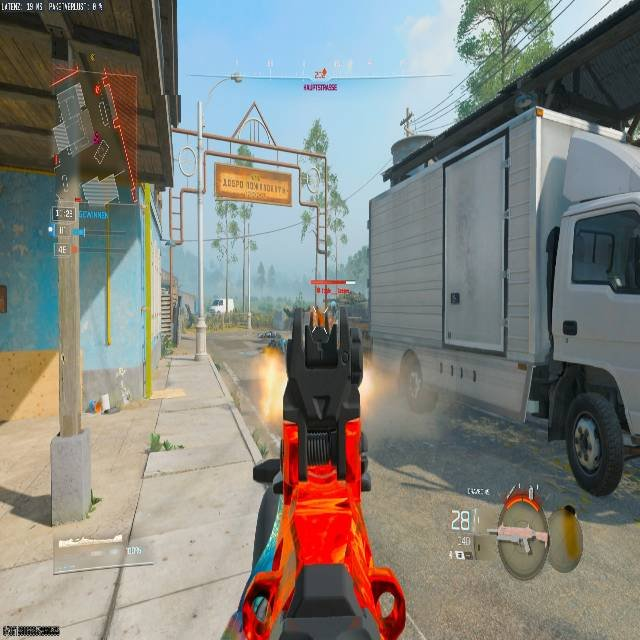player: (327, 297, 337, 320)
